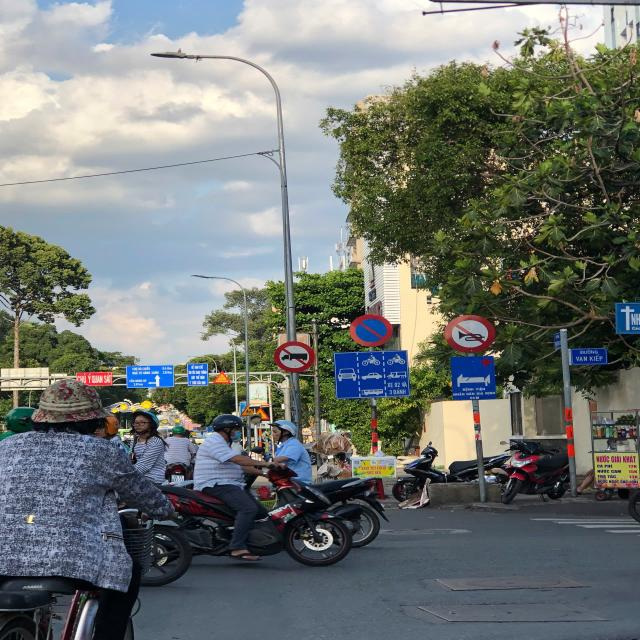Bien bao cam do xe: (345, 308, 399, 351)
Bien bao cam xe so-mi ro-mooc: (269, 336, 323, 377)
